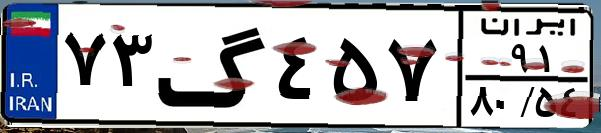0: (495, 70, 520, 125)
1: (537, 27, 568, 80)
3: (110, 28, 156, 98)
4: (270, 28, 330, 110), (560, 70, 590, 125)
5: (330, 28, 385, 110), (535, 70, 560, 125)
7: (385, 28, 445, 110), (57, 26, 110, 100)
8: (470, 70, 495, 125)
9: (508, 27, 537, 80)
گ: (156, 12, 270, 120)
